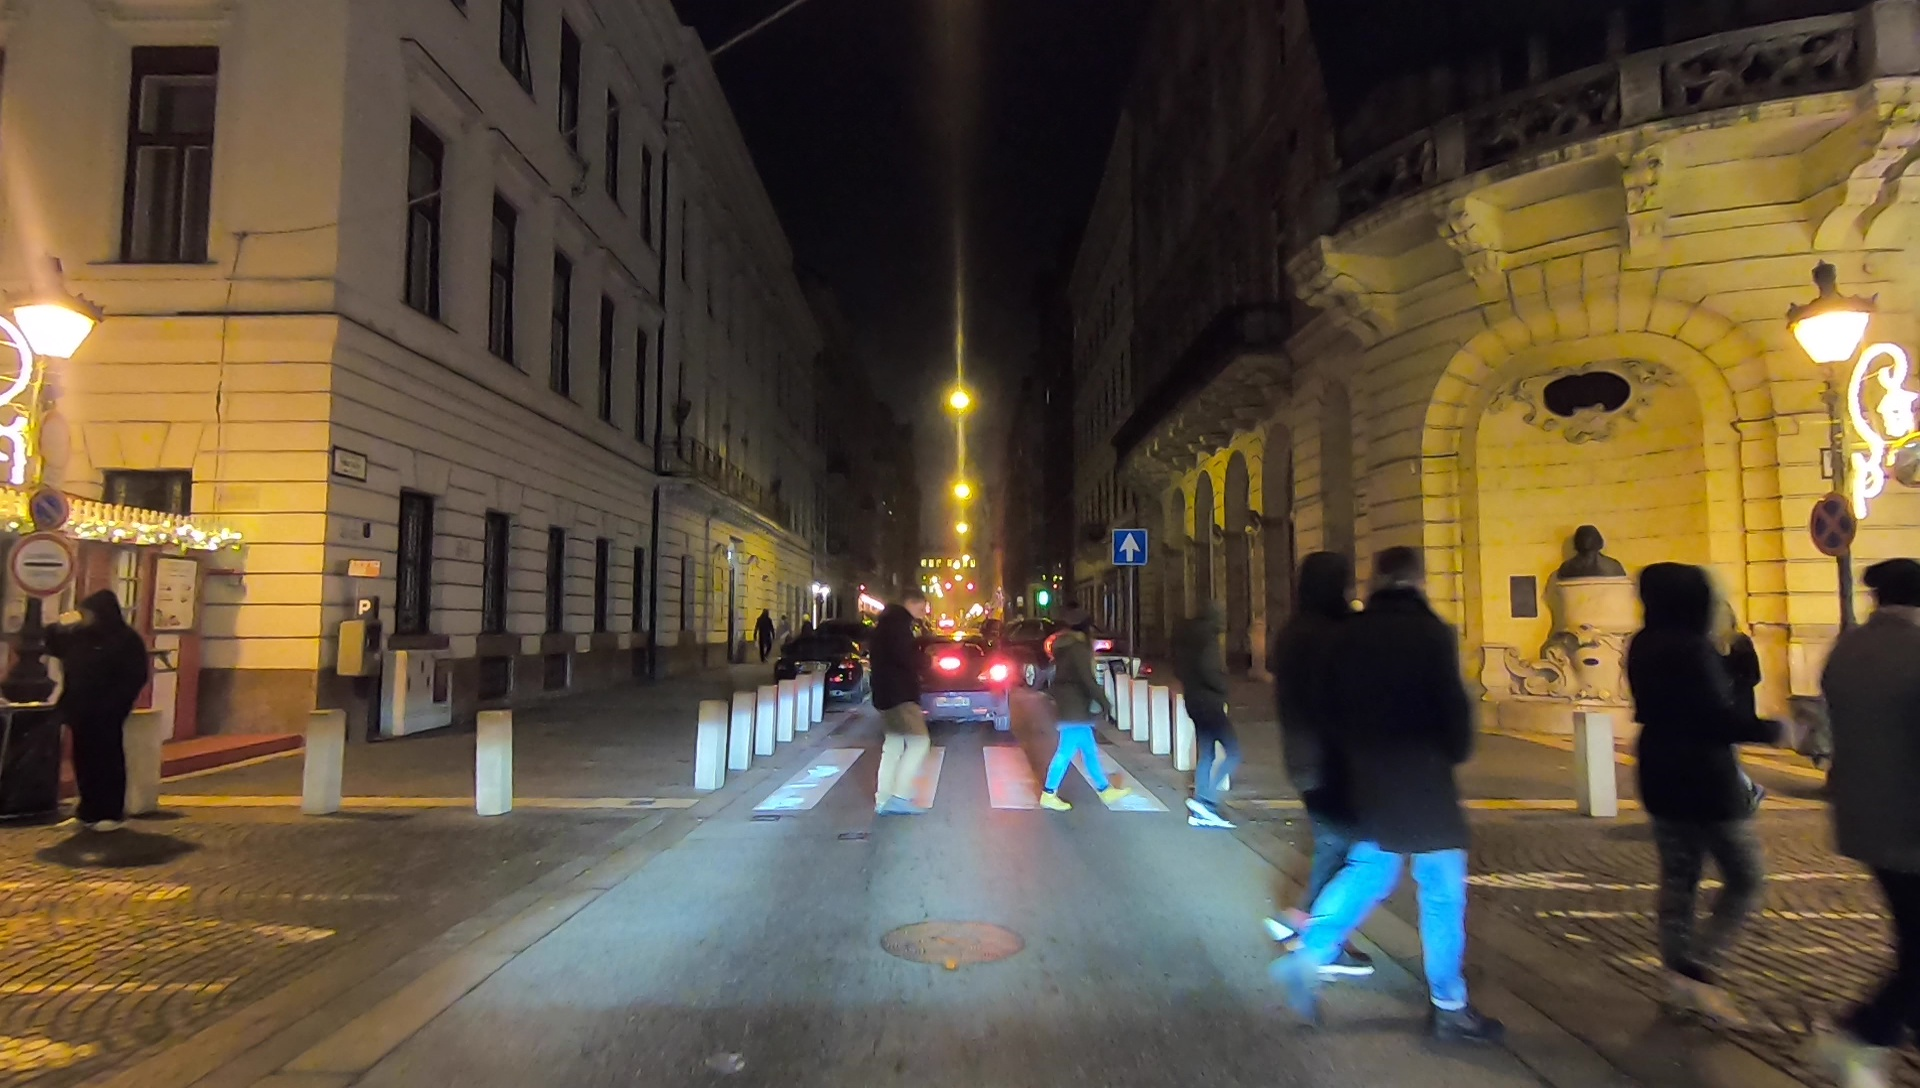person: (1315, 552, 1501, 1052), (1614, 554, 1771, 1032), (1810, 554, 1920, 1044), (1273, 543, 1380, 987), (32, 593, 149, 843), (1164, 610, 1247, 819), (1039, 613, 1123, 815), (864, 599, 938, 826), (752, 608, 775, 665)
